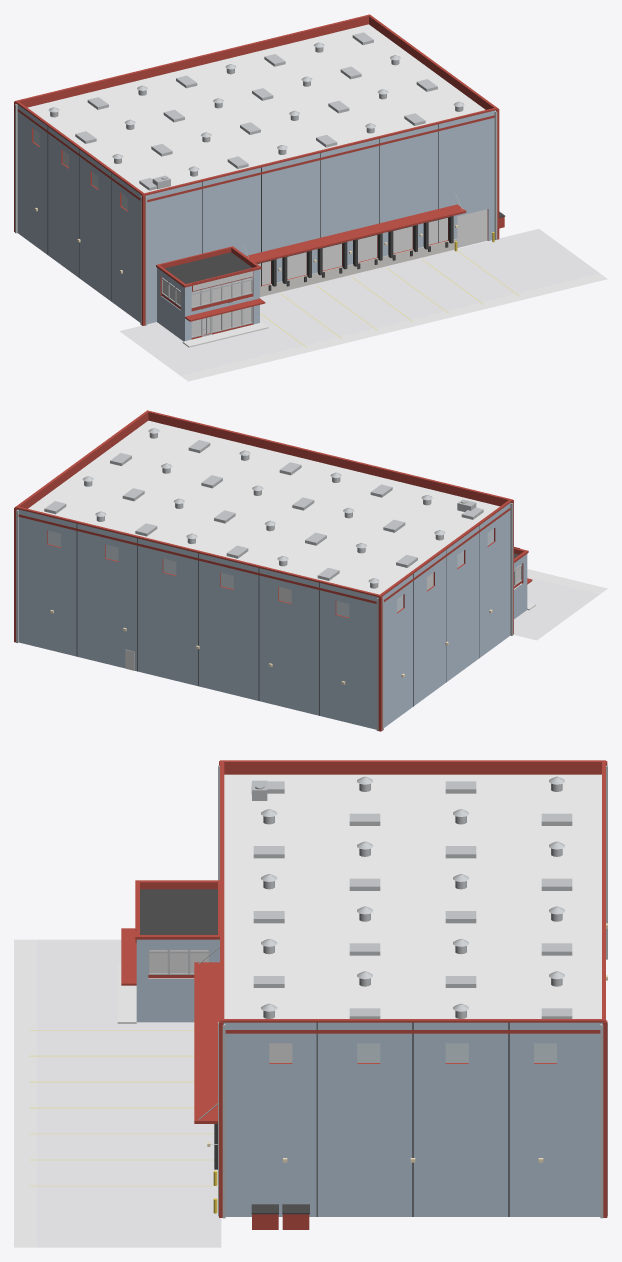
Rendered from industrial_factory160.glb.
3 views of the same model, one above another, from view 1: azimuth 30°, elevation 25°; view 2: azimuth 150°, elevation 25°; view 3: azimuth 270°, elevation 25° (orthographic). The views are drawn at different scales.
Parts seen in each view (by area): view 1: industrial_factory160_Walls, industrial_factory160_Roof, industrial_factory160_Asphalt, industrial_factory160_Trim, industrial_factory160_Roof2, industrial_factory160_Site, industrial_factory160_Frames, industrial_factory160_Doors, industrial_factory160_Details, industrial_factory160_WindowsLit, industrial_factory160_Walls2, industrial_factory160_Paint; view 2: industrial_factory160_Walls, industrial_factory160_Roof, industrial_factory160_Trim, industrial_factory160_Details, industrial_factory160_Frames, industrial_factory160_Asphalt, industrial_factory160_Roof2, industrial_factory160_Glass, industrial_factory160_Site; view 3: industrial_factory160_Roof, industrial_factory160_Walls, industrial_factory160_Asphalt, industrial_factory160_Trim, industrial_factory160_Site, industrial_factory160_Frames, industrial_factory160_Details, industrial_factory160_Roof2, industrial_factory160_Paint, industrial_factory160_WindowsLit, industrial_factory160_Glass.
Part boxes in pixels (x1,y1,x2,y2): industrial_factory160_Walls: [17, 104, 495, 341]; industrial_factory160_Roof: [28, 24, 485, 193]; industrial_factory160_Asphalt: [119, 229, 599, 375]; industrial_factory160_Trim: [14, 14, 504, 339]; industrial_factory160_Roof2: [47, 124, 505, 309]; industrial_factory160_Site: [181, 273, 607, 381]; industrial_factory160_Frames: [75, 32, 437, 337]; industrial_factory160_Doors: [258, 209, 487, 285]; industrial_factory160_Details: [15, 42, 497, 329]; industrial_factory160_WindowsLit: [62, 151, 251, 336]; industrial_factory160_Walls2: [228, 238, 457, 302]; industrial_factory160_Paint: [260, 251, 518, 347]; industrial_factory160_Walls: [17, 502, 527, 729]; industrial_factory160_Roof: [28, 420, 499, 594]; industrial_factory160_Trim: [14, 410, 532, 731]; industrial_factory160_Details: [16, 428, 513, 731]; industrial_factory160_Frames: [44, 440, 522, 586]; industrial_factory160_Asphalt: [513, 576, 599, 640]; industrial_factory160_Roof2: [76, 524, 518, 715]; industrial_factory160_Glass: [48, 529, 493, 617]; industrial_factory160_Site: [527, 569, 607, 610]; industrial_factory160_Roof: [224, 774, 601, 1018]; industrial_factory160_Walls: [136, 939, 602, 1216]; industrial_factory160_Asphalt: [37, 939, 221, 1247]; industrial_factory160_Trim: [121, 760, 607, 1229]; industrial_factory160_Site: [14, 939, 136, 1247]; industrial_factory160_Frames: [148, 781, 572, 1018]; industrial_factory160_Details: [198, 765, 607, 1218]; industrial_factory160_Roof2: [140, 889, 509, 1216]; industrial_factory160_Paint: [29, 1030, 213, 1186]; industrial_factory160_WindowsLit: [149, 950, 292, 1062]; industrial_factory160_Glass: [357, 1043, 556, 1062].
Bounding box in the file's own units: 190 × 57.1 × 155.
